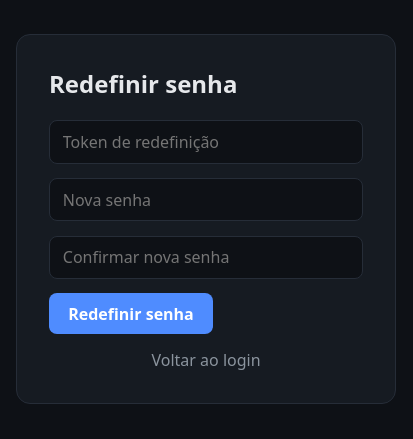
Test: RedefinirSenhaPage › shows an error for an invalid or expired token
Type "badtoken" into the field with placeholder "Token de redefinição" at (206, 142), box [49,120,363,164]
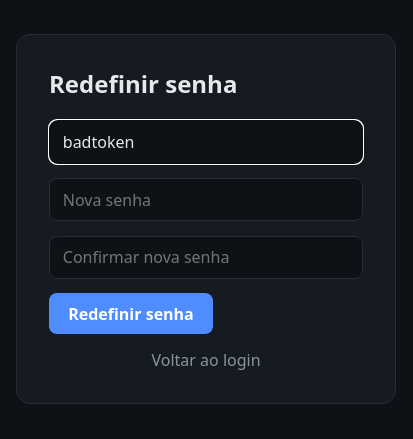
Type "newpassword1" into the password field with placeholder "Nova senha" at (206, 200), box [49,178,363,221]
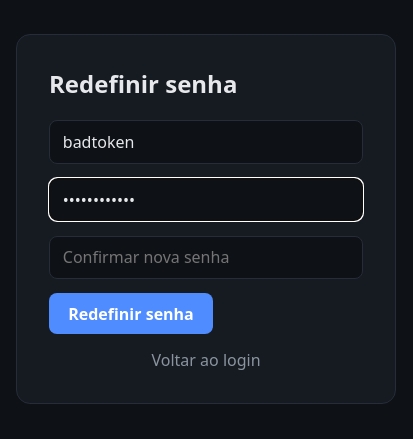
Type "newpassword1" into the password field with placeholder "Confirmar nova senha" at (206, 257), box [49,236,363,279]
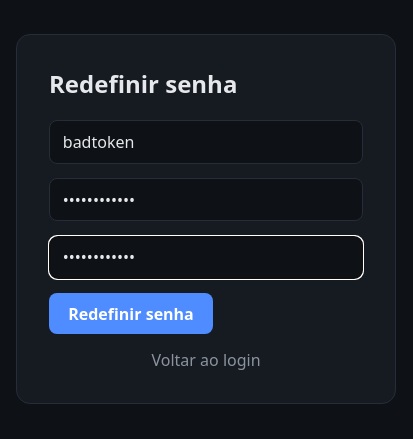
Click the button "Redefinir senha" at (131, 314), box [49,293,213,334]
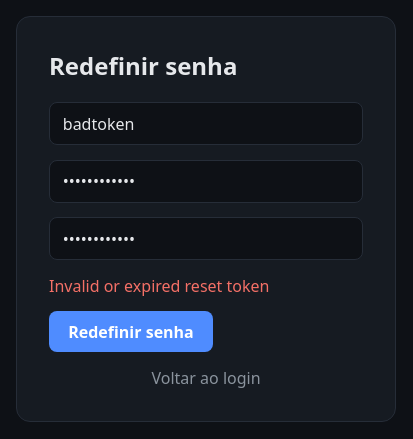
Expected: the text "Invalid or expired reset token" is shown, [49,275,269,297]
